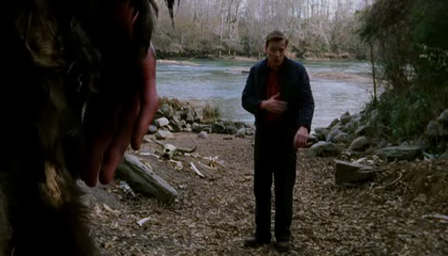face: (264, 40, 286, 66)
ls: (1, 1, 448, 256)
person: (240, 30, 314, 252)
